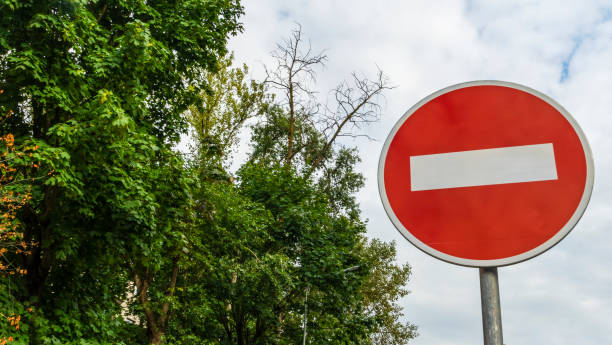Girilmez: (381, 74, 598, 269)
